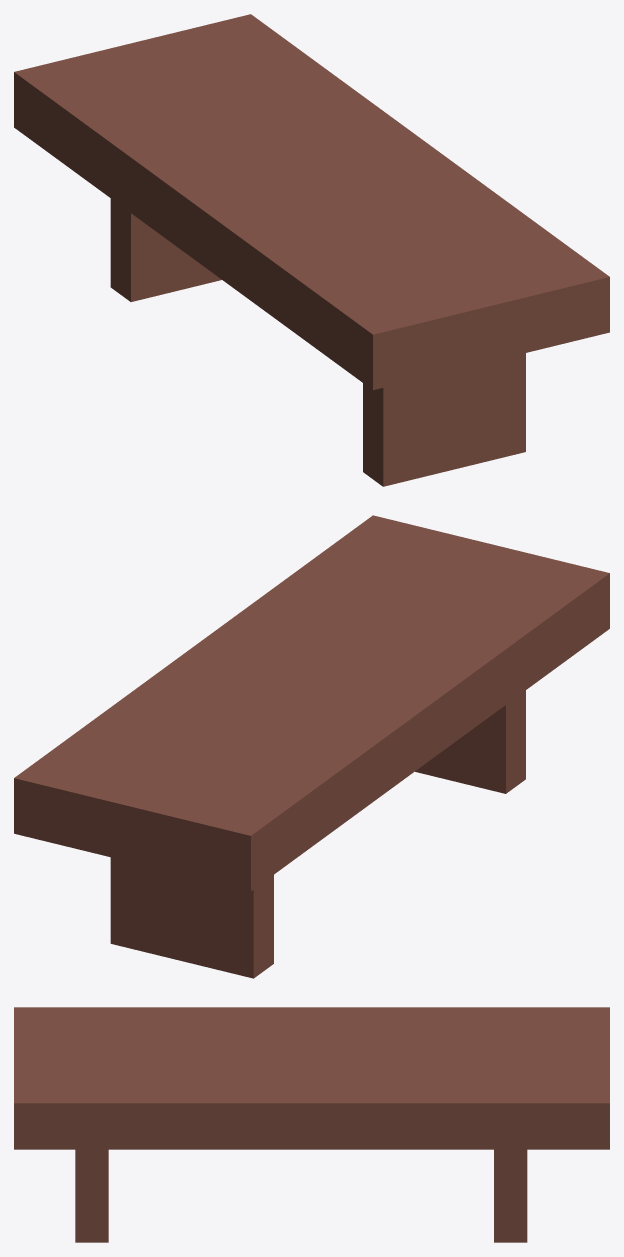
The model's file is behch_world_ap_0_lev1.glb.
3 views of the same model, one above another, from view 1: azimuth 30°, elevation 25°; view 2: azimuth 150°, elevation 25°; view 3: azimuth 270°, elevation 25° (orthographic). The views are drawn at different scales.
Visible parts, largest first — view 1: behch_world_ap_0_lev1; view 2: behch_world_ap_0_lev1; view 3: behch_world_ap_0_lev1.
Boxes of the visible parts, left/top/right/bottom form: behch_world_ap_0_lev1: left=14, top=14, right=609, bottom=486; behch_world_ap_0_lev1: left=14, top=515, right=609, bottom=978; behch_world_ap_0_lev1: left=14, top=1007, right=609, bottom=1242.
Bounding box in the file's own units: 0.2422 × 0.1861 × 0.6356.
Materials: 1 (1 with a texture image).
